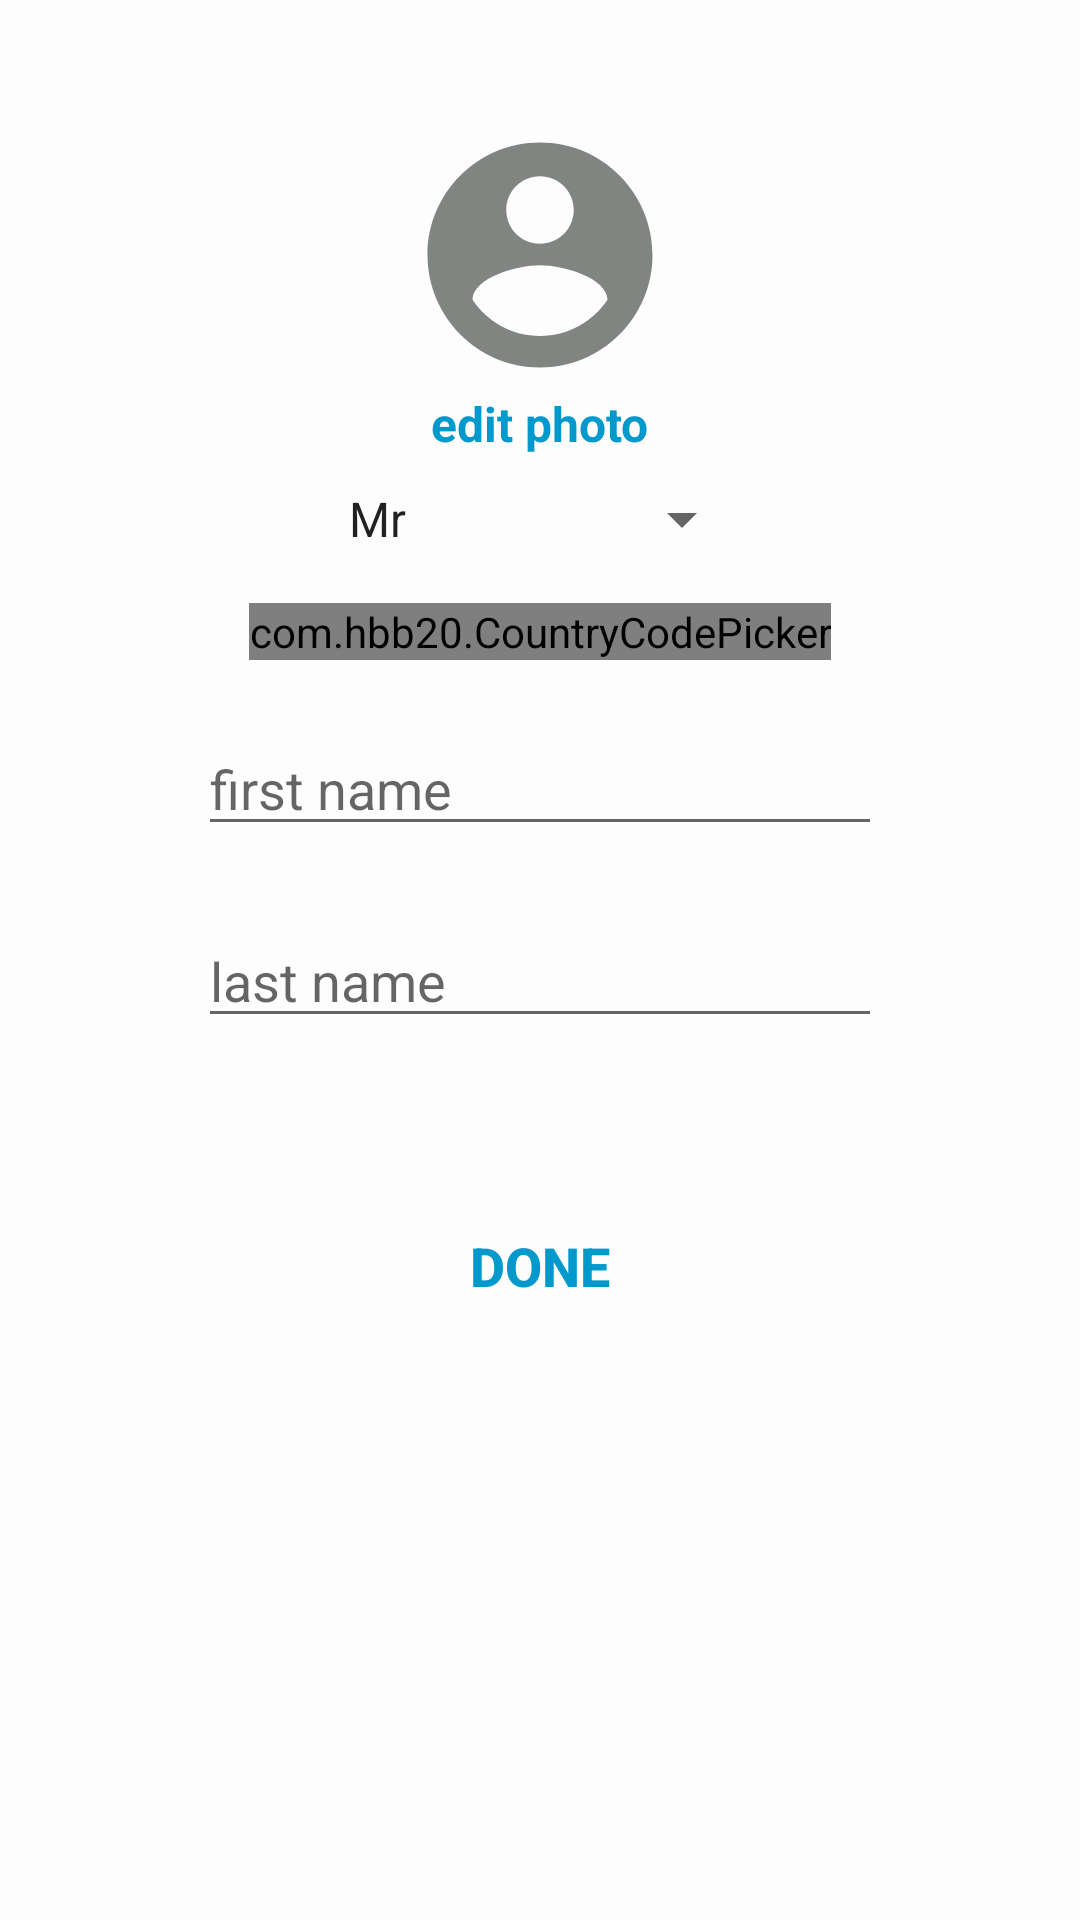

Named icons in this screenshot (1080w x 1920h) and their bounding boxes, (x1, y1, x2, y2):
profile pics: (427, 142, 653, 368)
